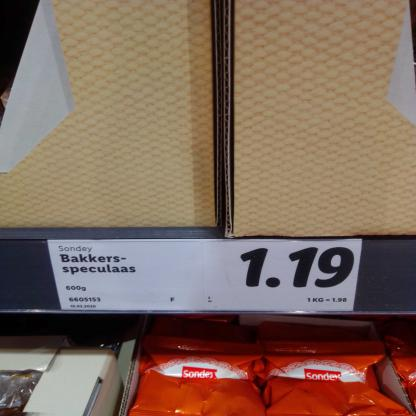prtg: (48, 239, 364, 312)
